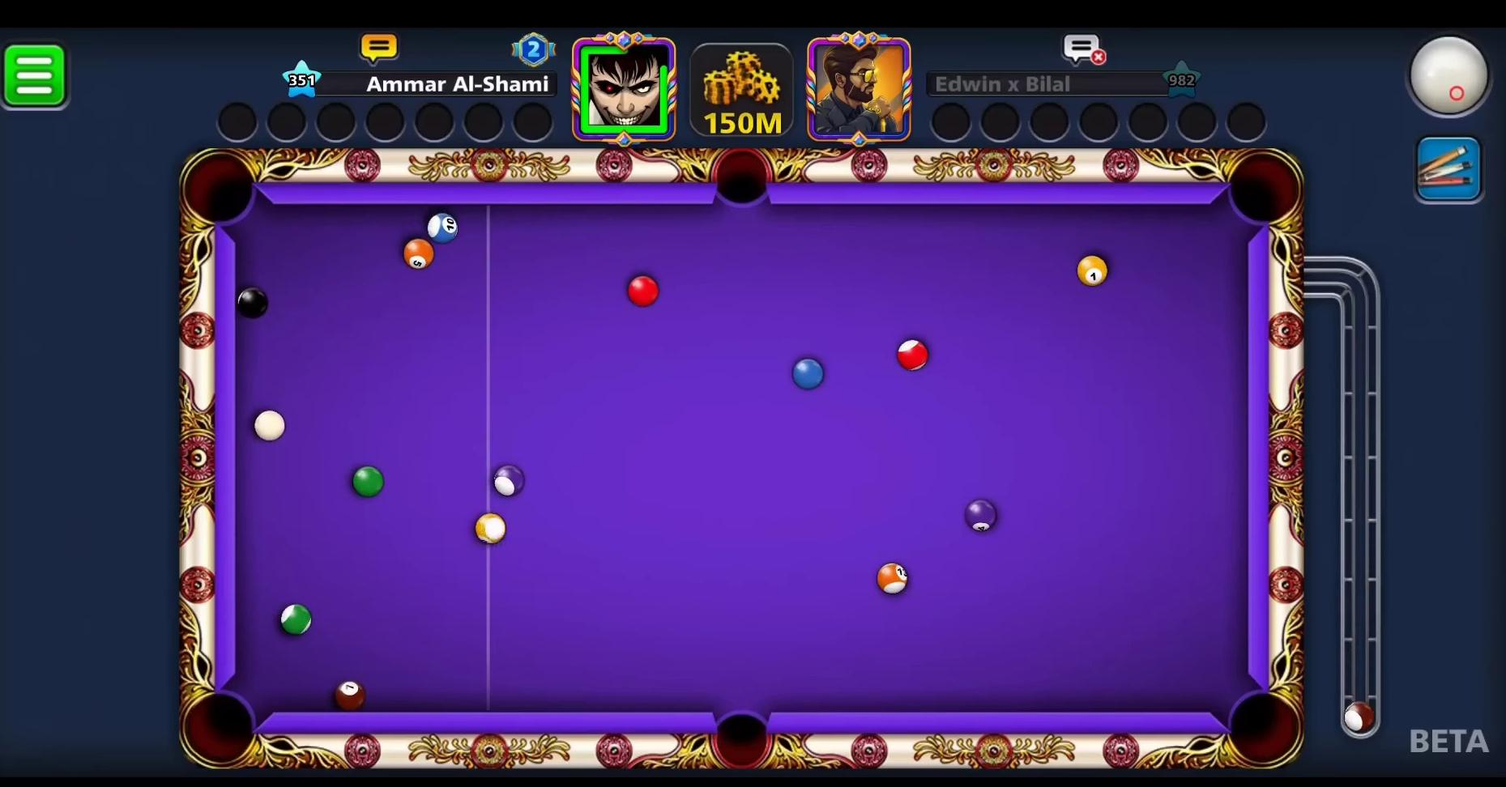Ball: (412, 200, 463, 247), (225, 282, 277, 324), (871, 551, 912, 602), (485, 457, 532, 500), (322, 675, 375, 713), (466, 509, 515, 549), (959, 493, 1002, 538), (272, 600, 321, 639), (618, 272, 665, 312), (398, 233, 441, 275), (893, 334, 935, 377), (1072, 252, 1116, 291), (345, 463, 386, 500), (789, 354, 827, 392)
Hole: (169, 679, 271, 774), (1217, 138, 1306, 236), (1215, 683, 1308, 776), (176, 140, 268, 234), (702, 693, 782, 777), (702, 142, 783, 223)
Play_Area: (231, 203, 1241, 712)
Spin: (1402, 28, 1504, 130)
White: (249, 406, 291, 443)
